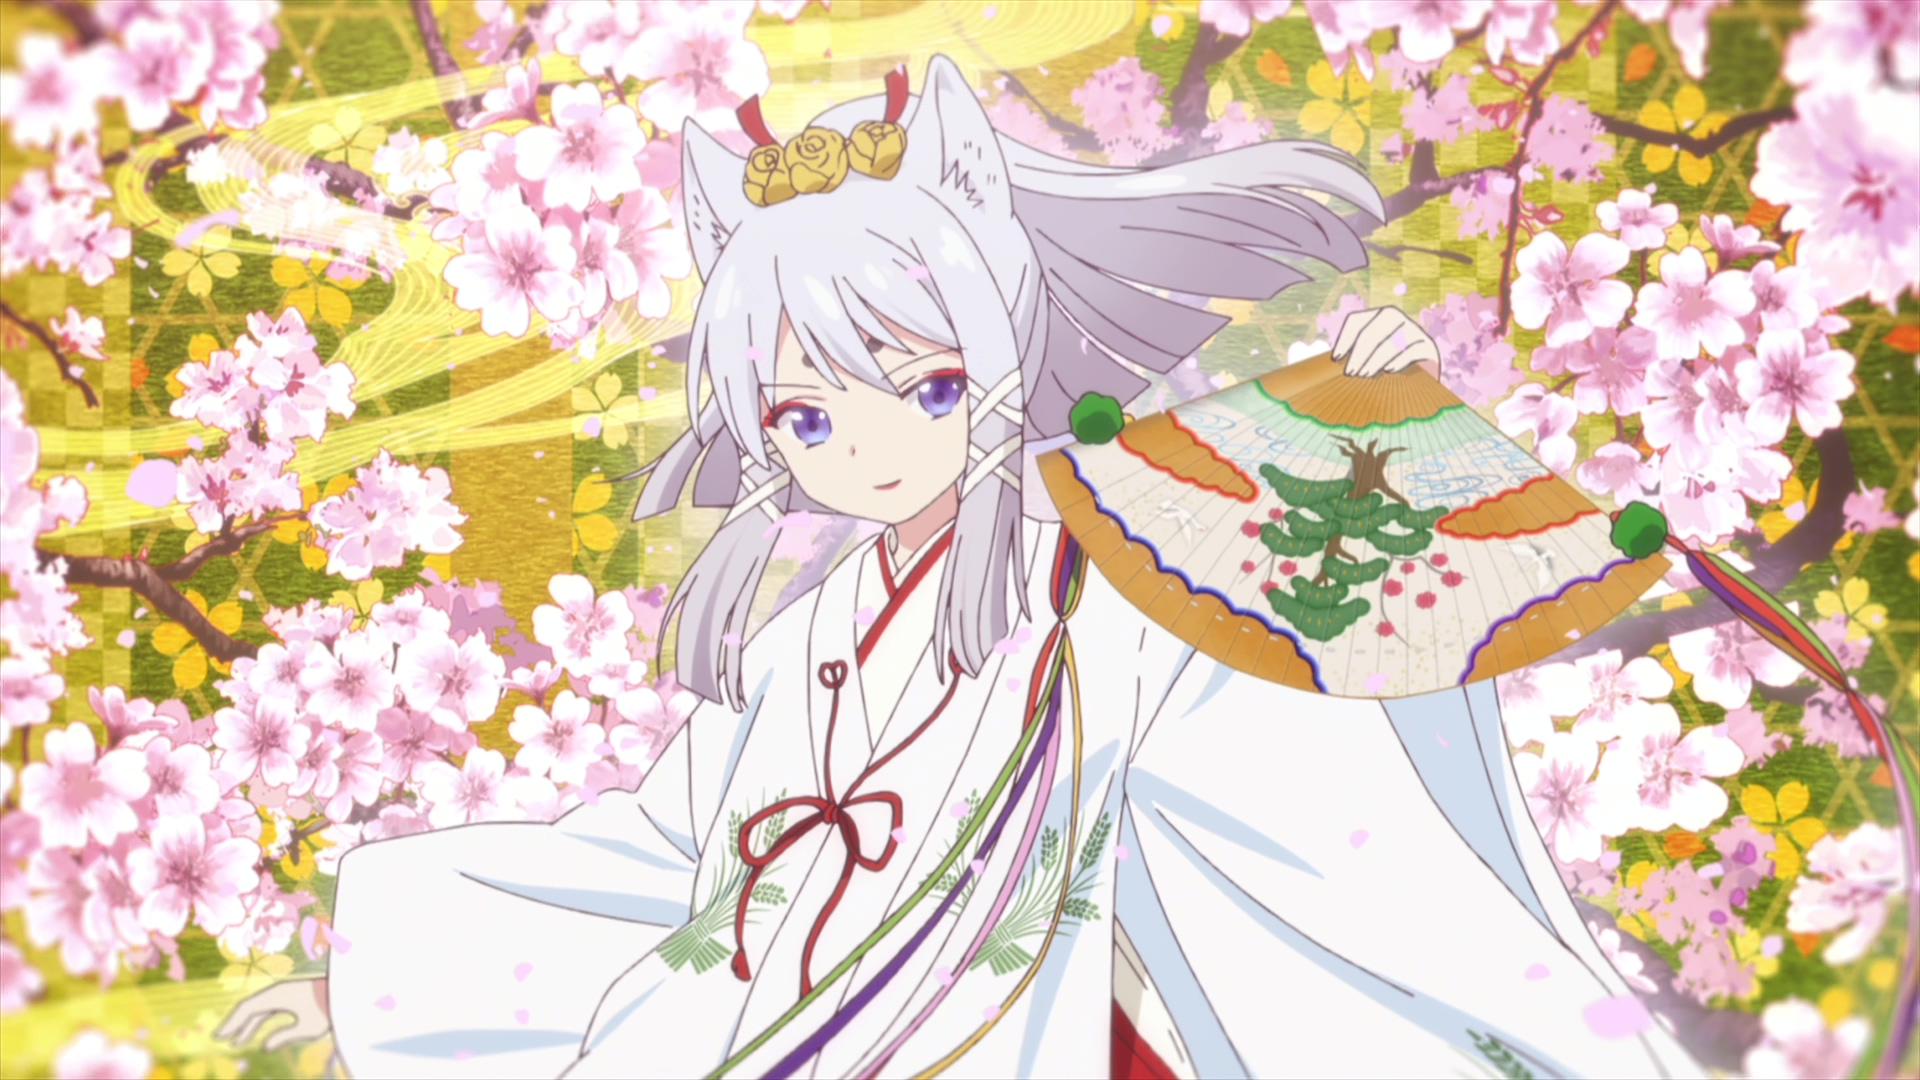柊: (211, 51, 1706, 1080)
